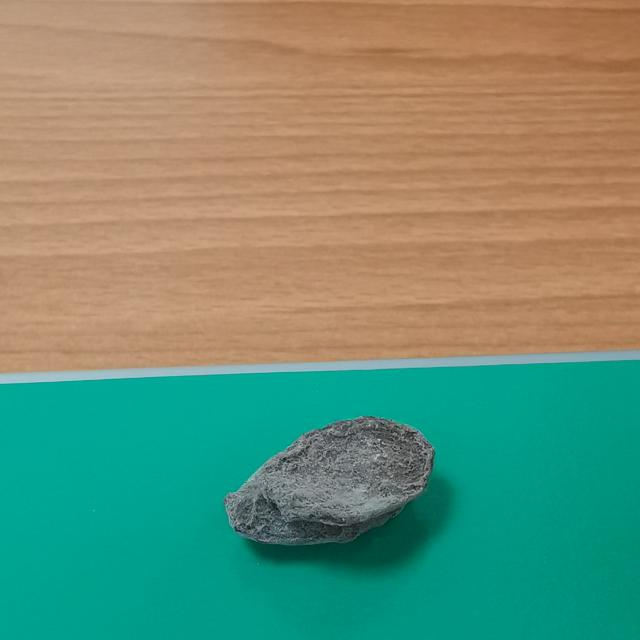Agglomerated_cocoabeans: (148, 377, 495, 598)
